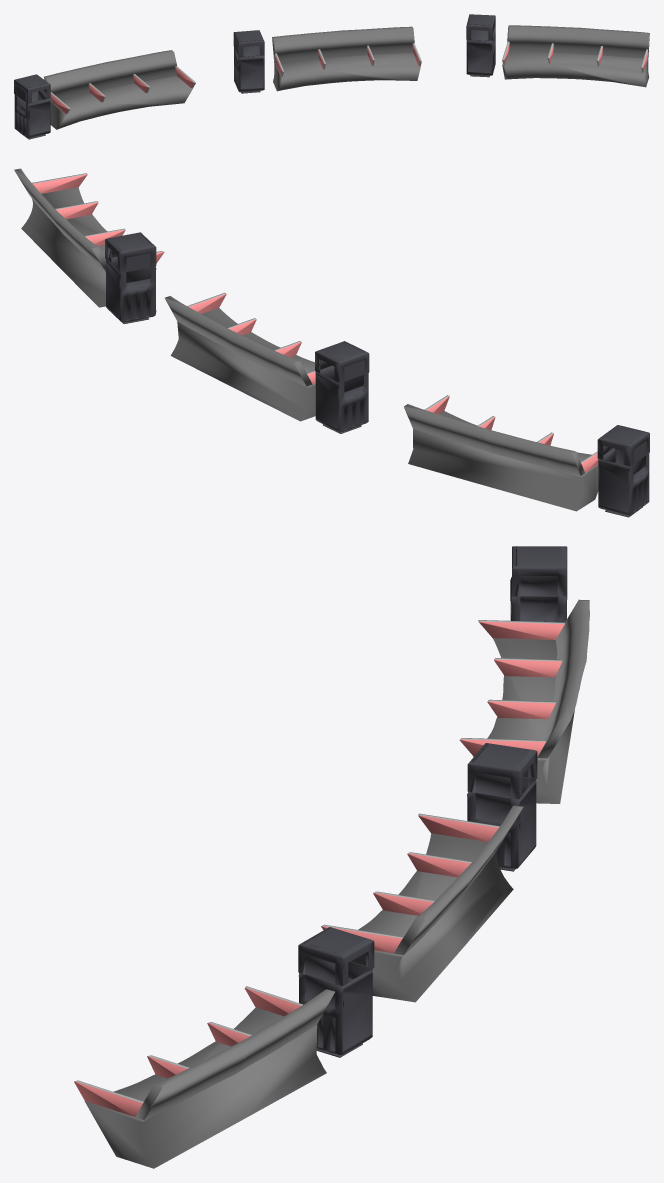
Rendered from Stone_bench.glb.
The picture shows the model from 3 angles, top to bottom: view 1: azimuth 30°, elevation 25°; view 2: azimuth 150°, elevation 25°; view 3: azimuth 270°, elevation 25°; orthographic projection. The views are drawn at different scales.
Visible parts, largest first — view 1: stone2; view 2: stone2; view 3: stone2.
Boxes of the visible parts, x1,y1,x2,y2 form: stone2: (14, 14, 649, 139); stone2: (14, 168, 649, 517); stone2: (74, 546, 589, 1168).
Bounding box in the file's own units: 6.1 × 0.5915 × 2.55.
